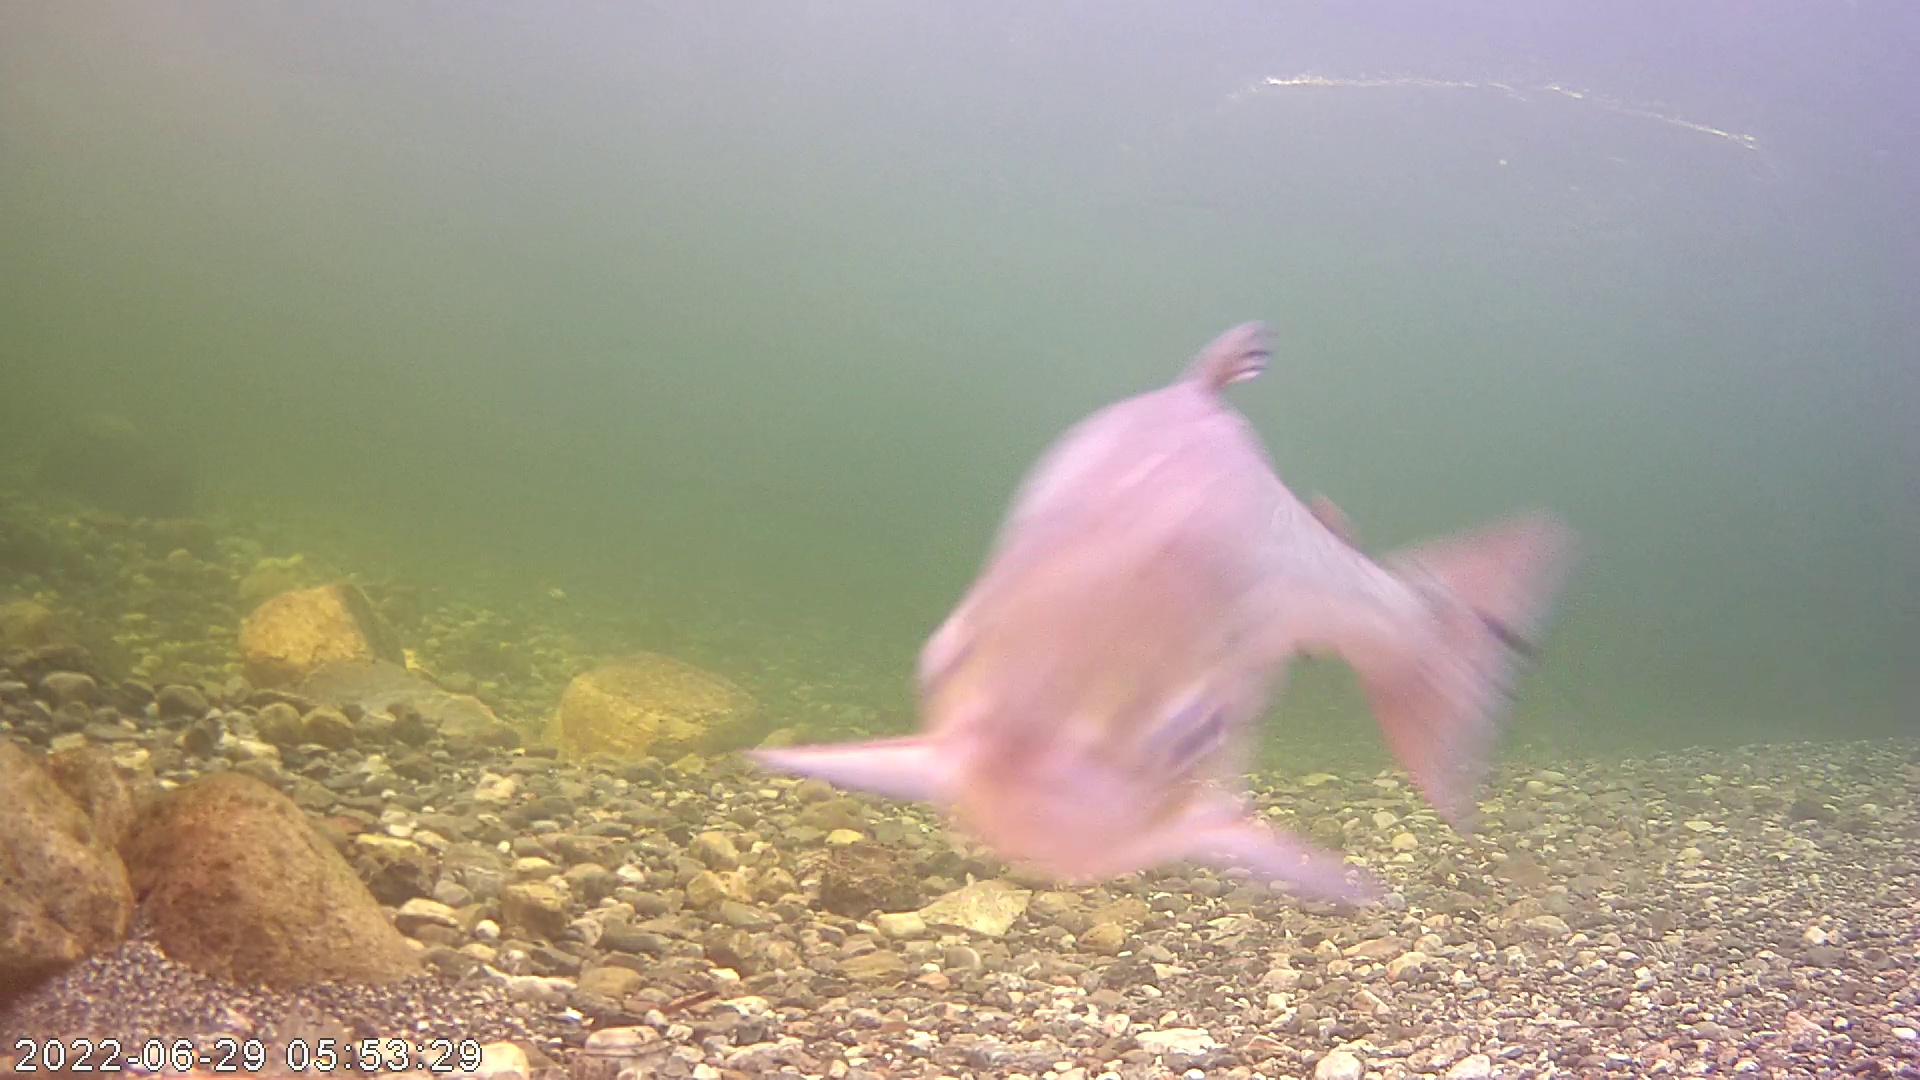salmon: (725, 315, 1578, 907)
